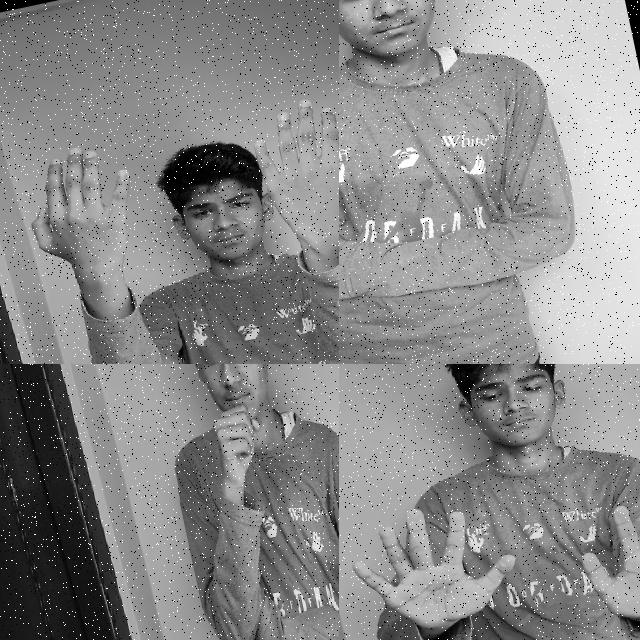Fist Mouth: (148, 364, 328, 518)
Moutza: (5, 124, 166, 321), (339, 484, 534, 640), (229, 73, 339, 277), (564, 471, 640, 639)
